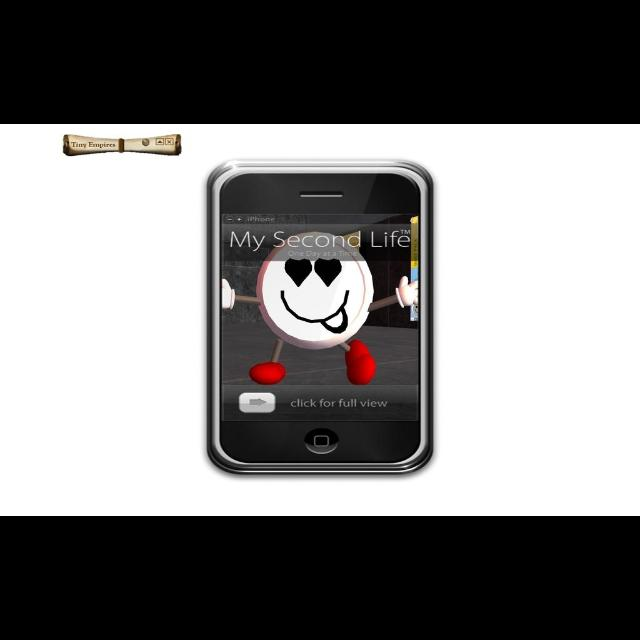Smartphone: (204, 154, 436, 482)
